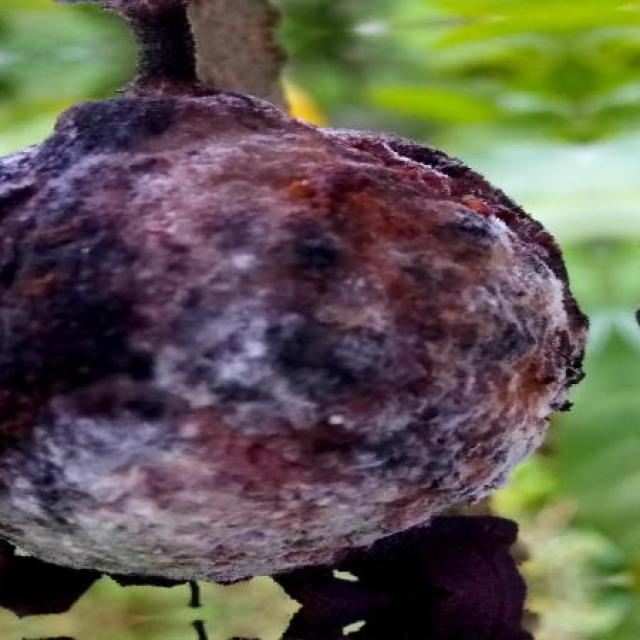Phytopthora: (0, 0, 588, 580)
